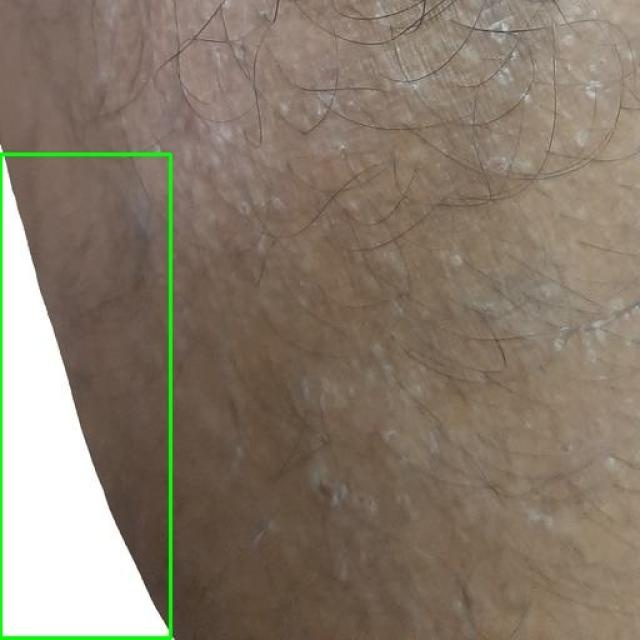Contact Dermatitis: (0, 154, 171, 639)
